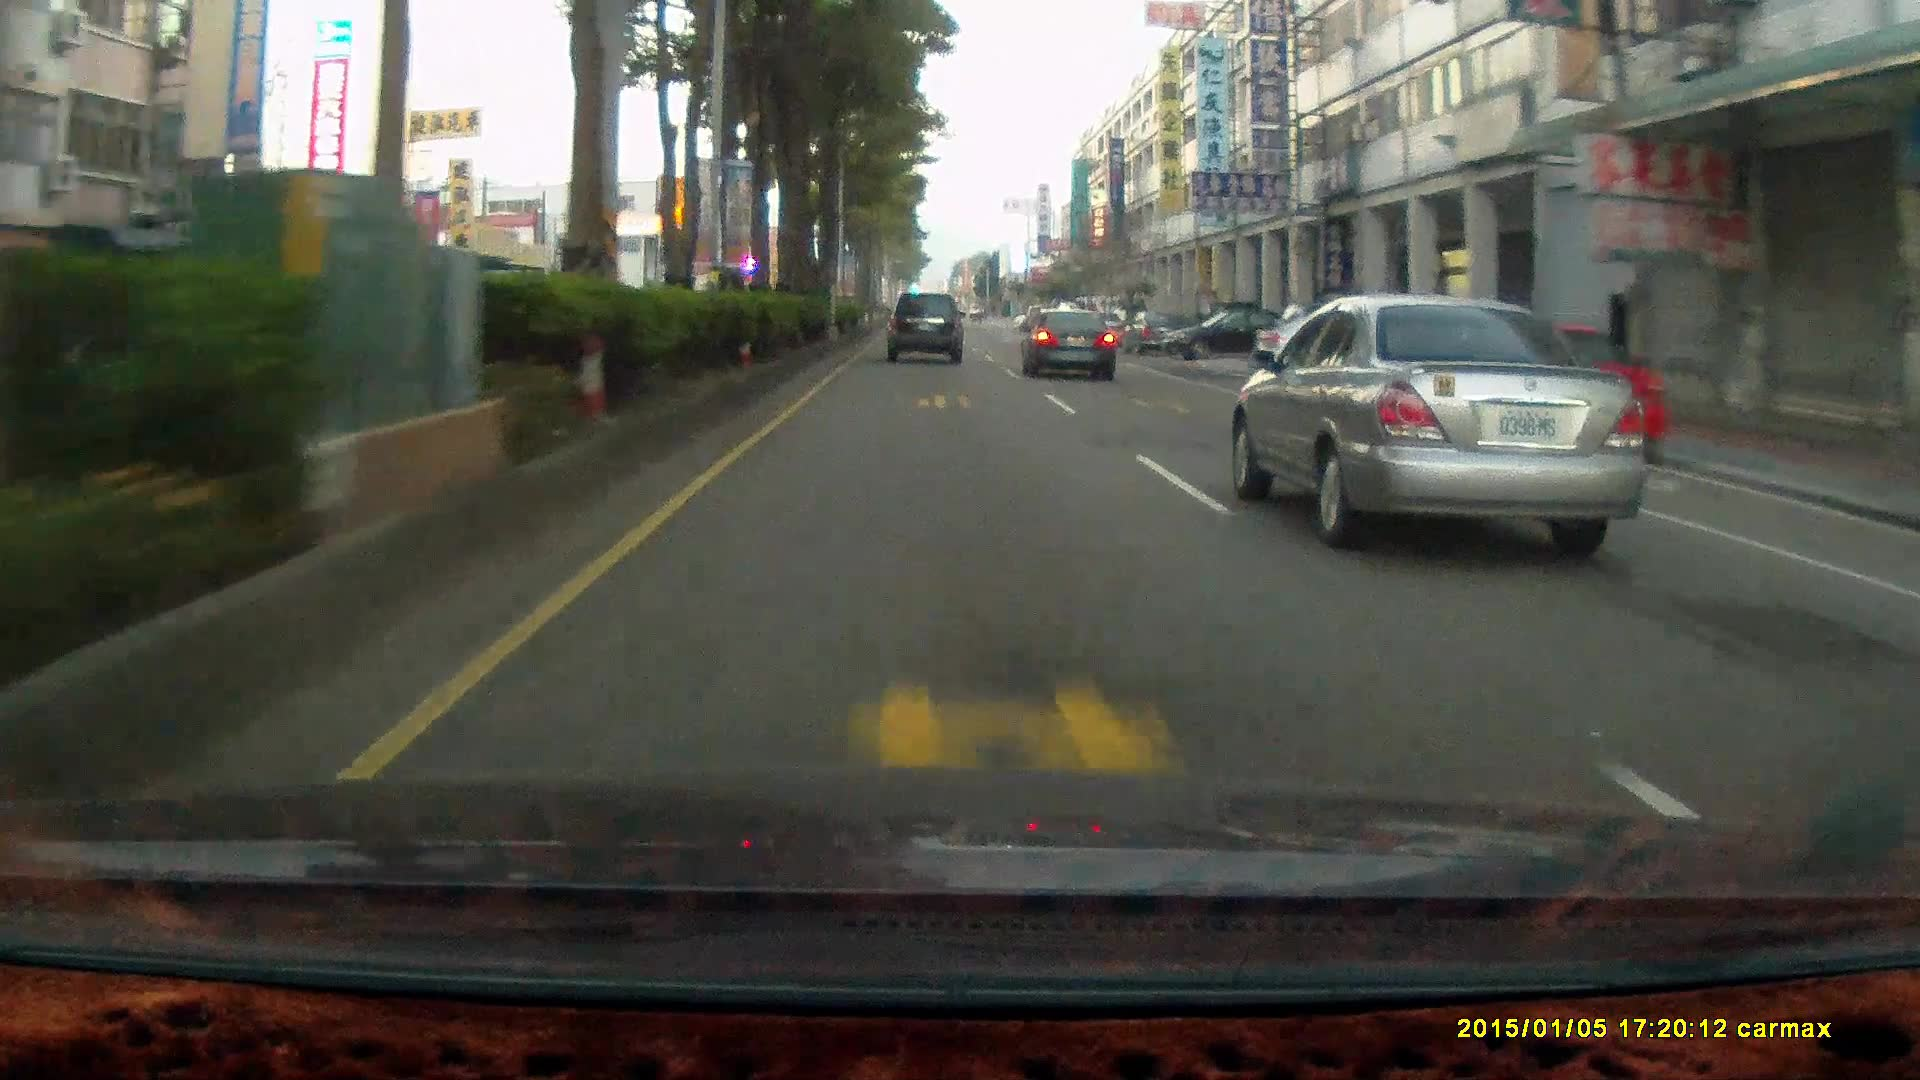vehicle: (1226, 286, 1669, 547), (1425, 324, 1668, 467), (1472, 318, 1687, 473), (1156, 306, 1298, 360), (1019, 309, 1118, 382), (1021, 307, 1116, 382), (885, 291, 969, 367), (884, 291, 965, 363), (1120, 310, 1185, 357)
